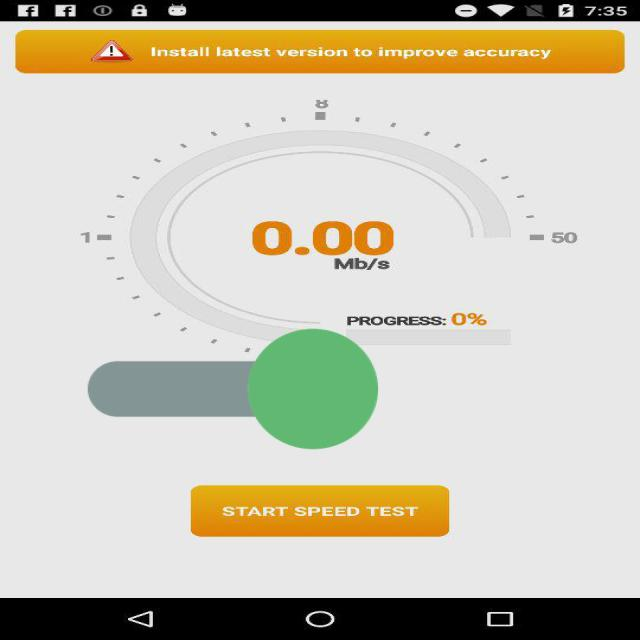social proof: (88, 255, 378, 523)
